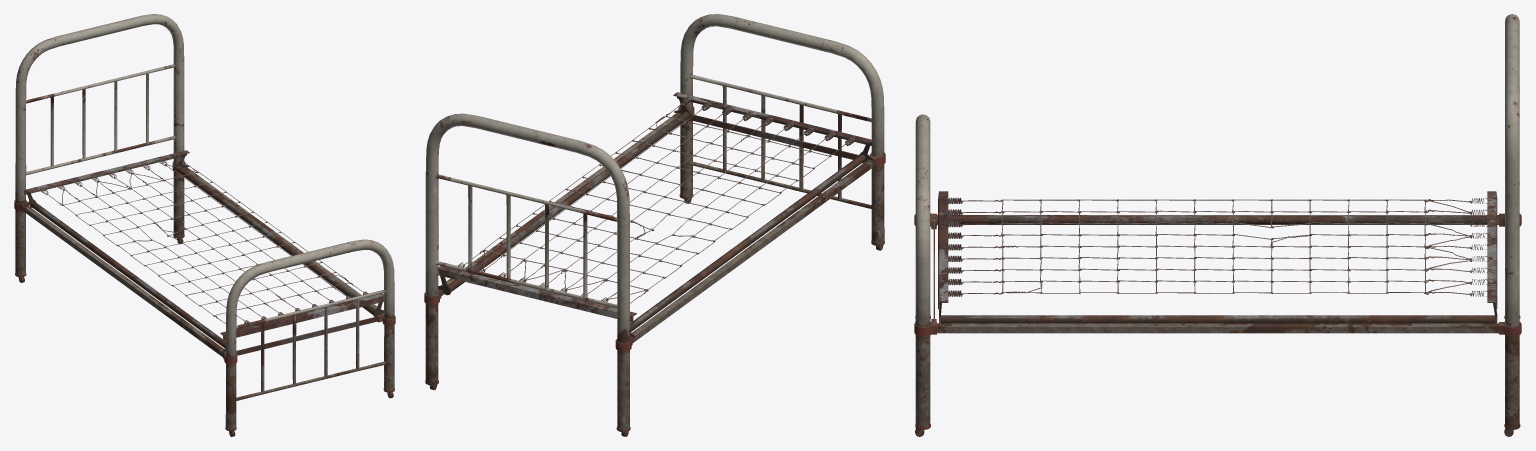
Rendered from single_bed.glb.
3 renders of one model, left to right at view 1: azimuth 30°, elevation 25°; view 2: azimuth 150°, elevation 25°; view 3: azimuth 270°, elevation 25°, orthographic. The views are drawn at different scales.
Visible parts, largest first — view 1: old_bed_frame; view 2: old_bed_frame; view 3: old_bed_frame.
Boxes of the visible parts, x1,y1,x2,y2 form: old_bed_frame: (14, 14, 395, 436); old_bed_frame: (424, 14, 885, 436); old_bed_frame: (914, 14, 1521, 436).
Size of the model in its own units: 0.9047 by 1.2 by 2.
Materials: 1 (1 with a texture image).
